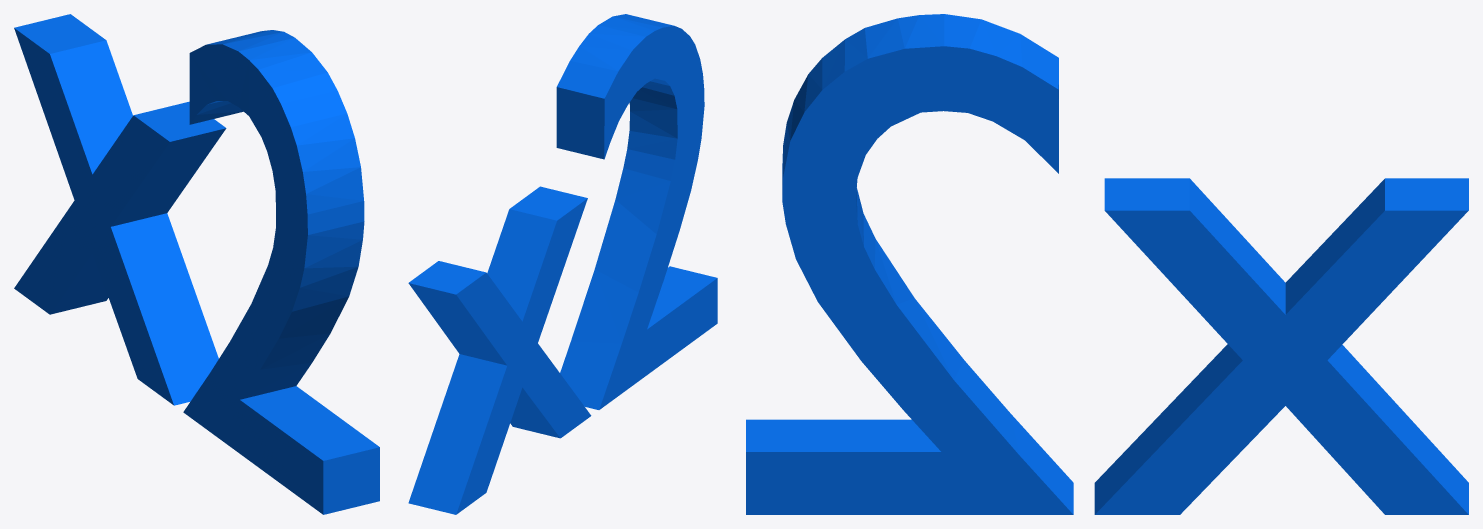
The picture shows the model from 3 angles, left to right: view 1: azimuth 30°, elevation 25°; view 2: azimuth 150°, elevation 25°; view 3: azimuth 270°, elevation 25°; orthographic projection. The views are drawn at different scales.
Visible parts, largest first — view 1: Text; view 2: Text; view 3: Text.
Boxes of the visible parts, <box> form: Text: <box>14,14,379,514</box>; Text: <box>408,14,717,514</box>; Text: <box>746,14,1468,514</box>.
Bounding box in the file's own units: 10.19 × 69.13 × 96.6.
